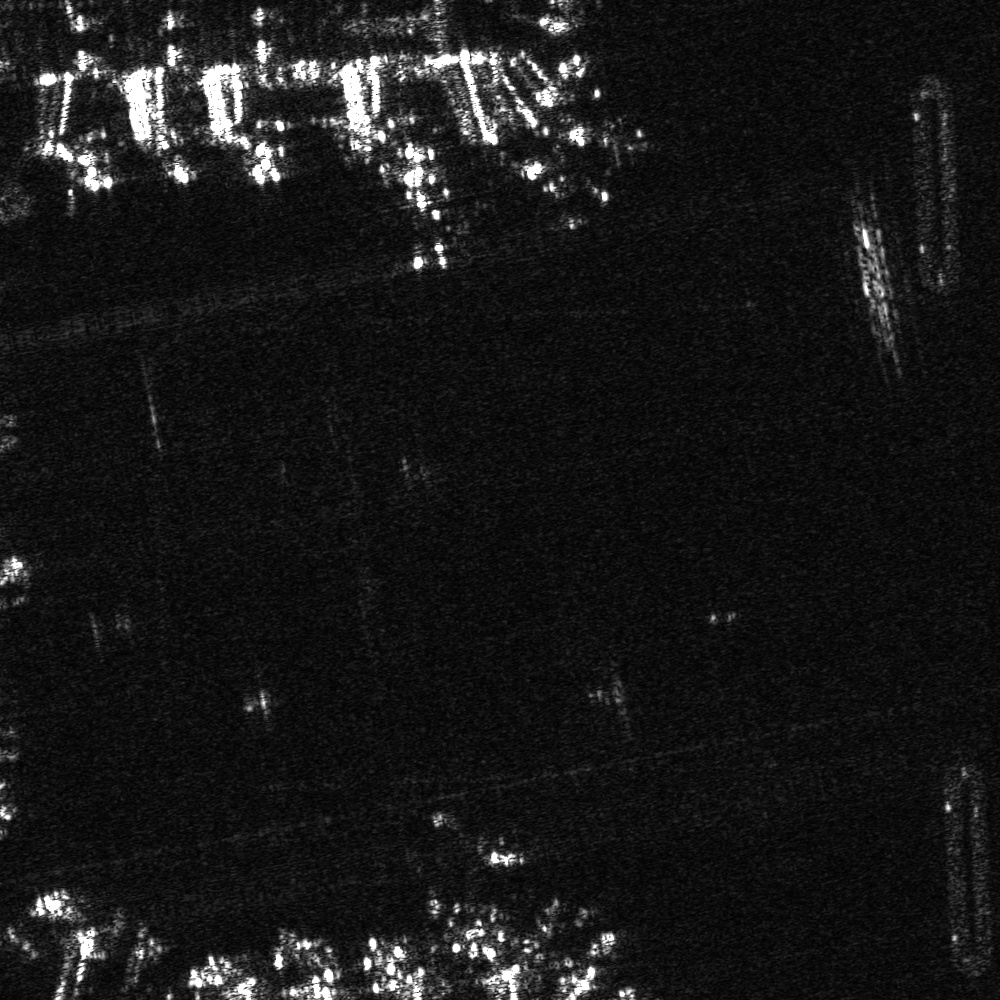A220: (425, 836, 527, 945)
A320/321: (379, 166, 473, 276), (559, 111, 652, 172)
Boeing737: (512, 151, 626, 214)
